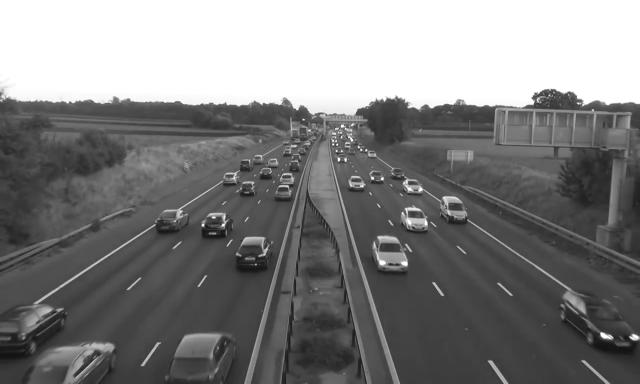caminhaog: (299, 127, 309, 137), (292, 128, 300, 140), (310, 124, 316, 132)
caminhaop: (346, 128, 352, 138)
carro: (559, 288, 639, 354), (20, 338, 118, 384), (0, 300, 68, 358), (165, 330, 238, 384), (234, 236, 274, 275), (372, 235, 408, 274), (200, 212, 235, 241), (154, 208, 190, 233), (441, 195, 470, 226), (400, 206, 429, 233), (274, 185, 293, 201), (404, 179, 424, 194), (240, 181, 258, 197), (348, 175, 365, 191), (369, 170, 385, 185), (223, 172, 240, 186), (279, 173, 295, 186), (240, 159, 253, 172), (390, 168, 404, 180), (260, 168, 273, 180), (288, 161, 300, 172), (268, 158, 280, 168), (252, 154, 264, 164), (338, 154, 348, 164), (291, 154, 301, 162), (282, 150, 292, 158), (367, 150, 377, 158), (348, 148, 356, 155), (335, 147, 343, 154), (360, 146, 368, 153), (344, 142, 351, 149), (298, 148, 306, 154), (290, 142, 298, 148), (302, 144, 309, 150), (304, 140, 311, 146), (332, 141, 339, 147), (282, 140, 290, 145), (294, 138, 300, 144), (353, 140, 359, 146), (358, 143, 363, 150), (284, 146, 292, 150), (308, 139, 314, 144), (310, 136, 316, 141), (331, 138, 338, 142), (342, 136, 346, 142)
van: (331, 132, 337, 141)
